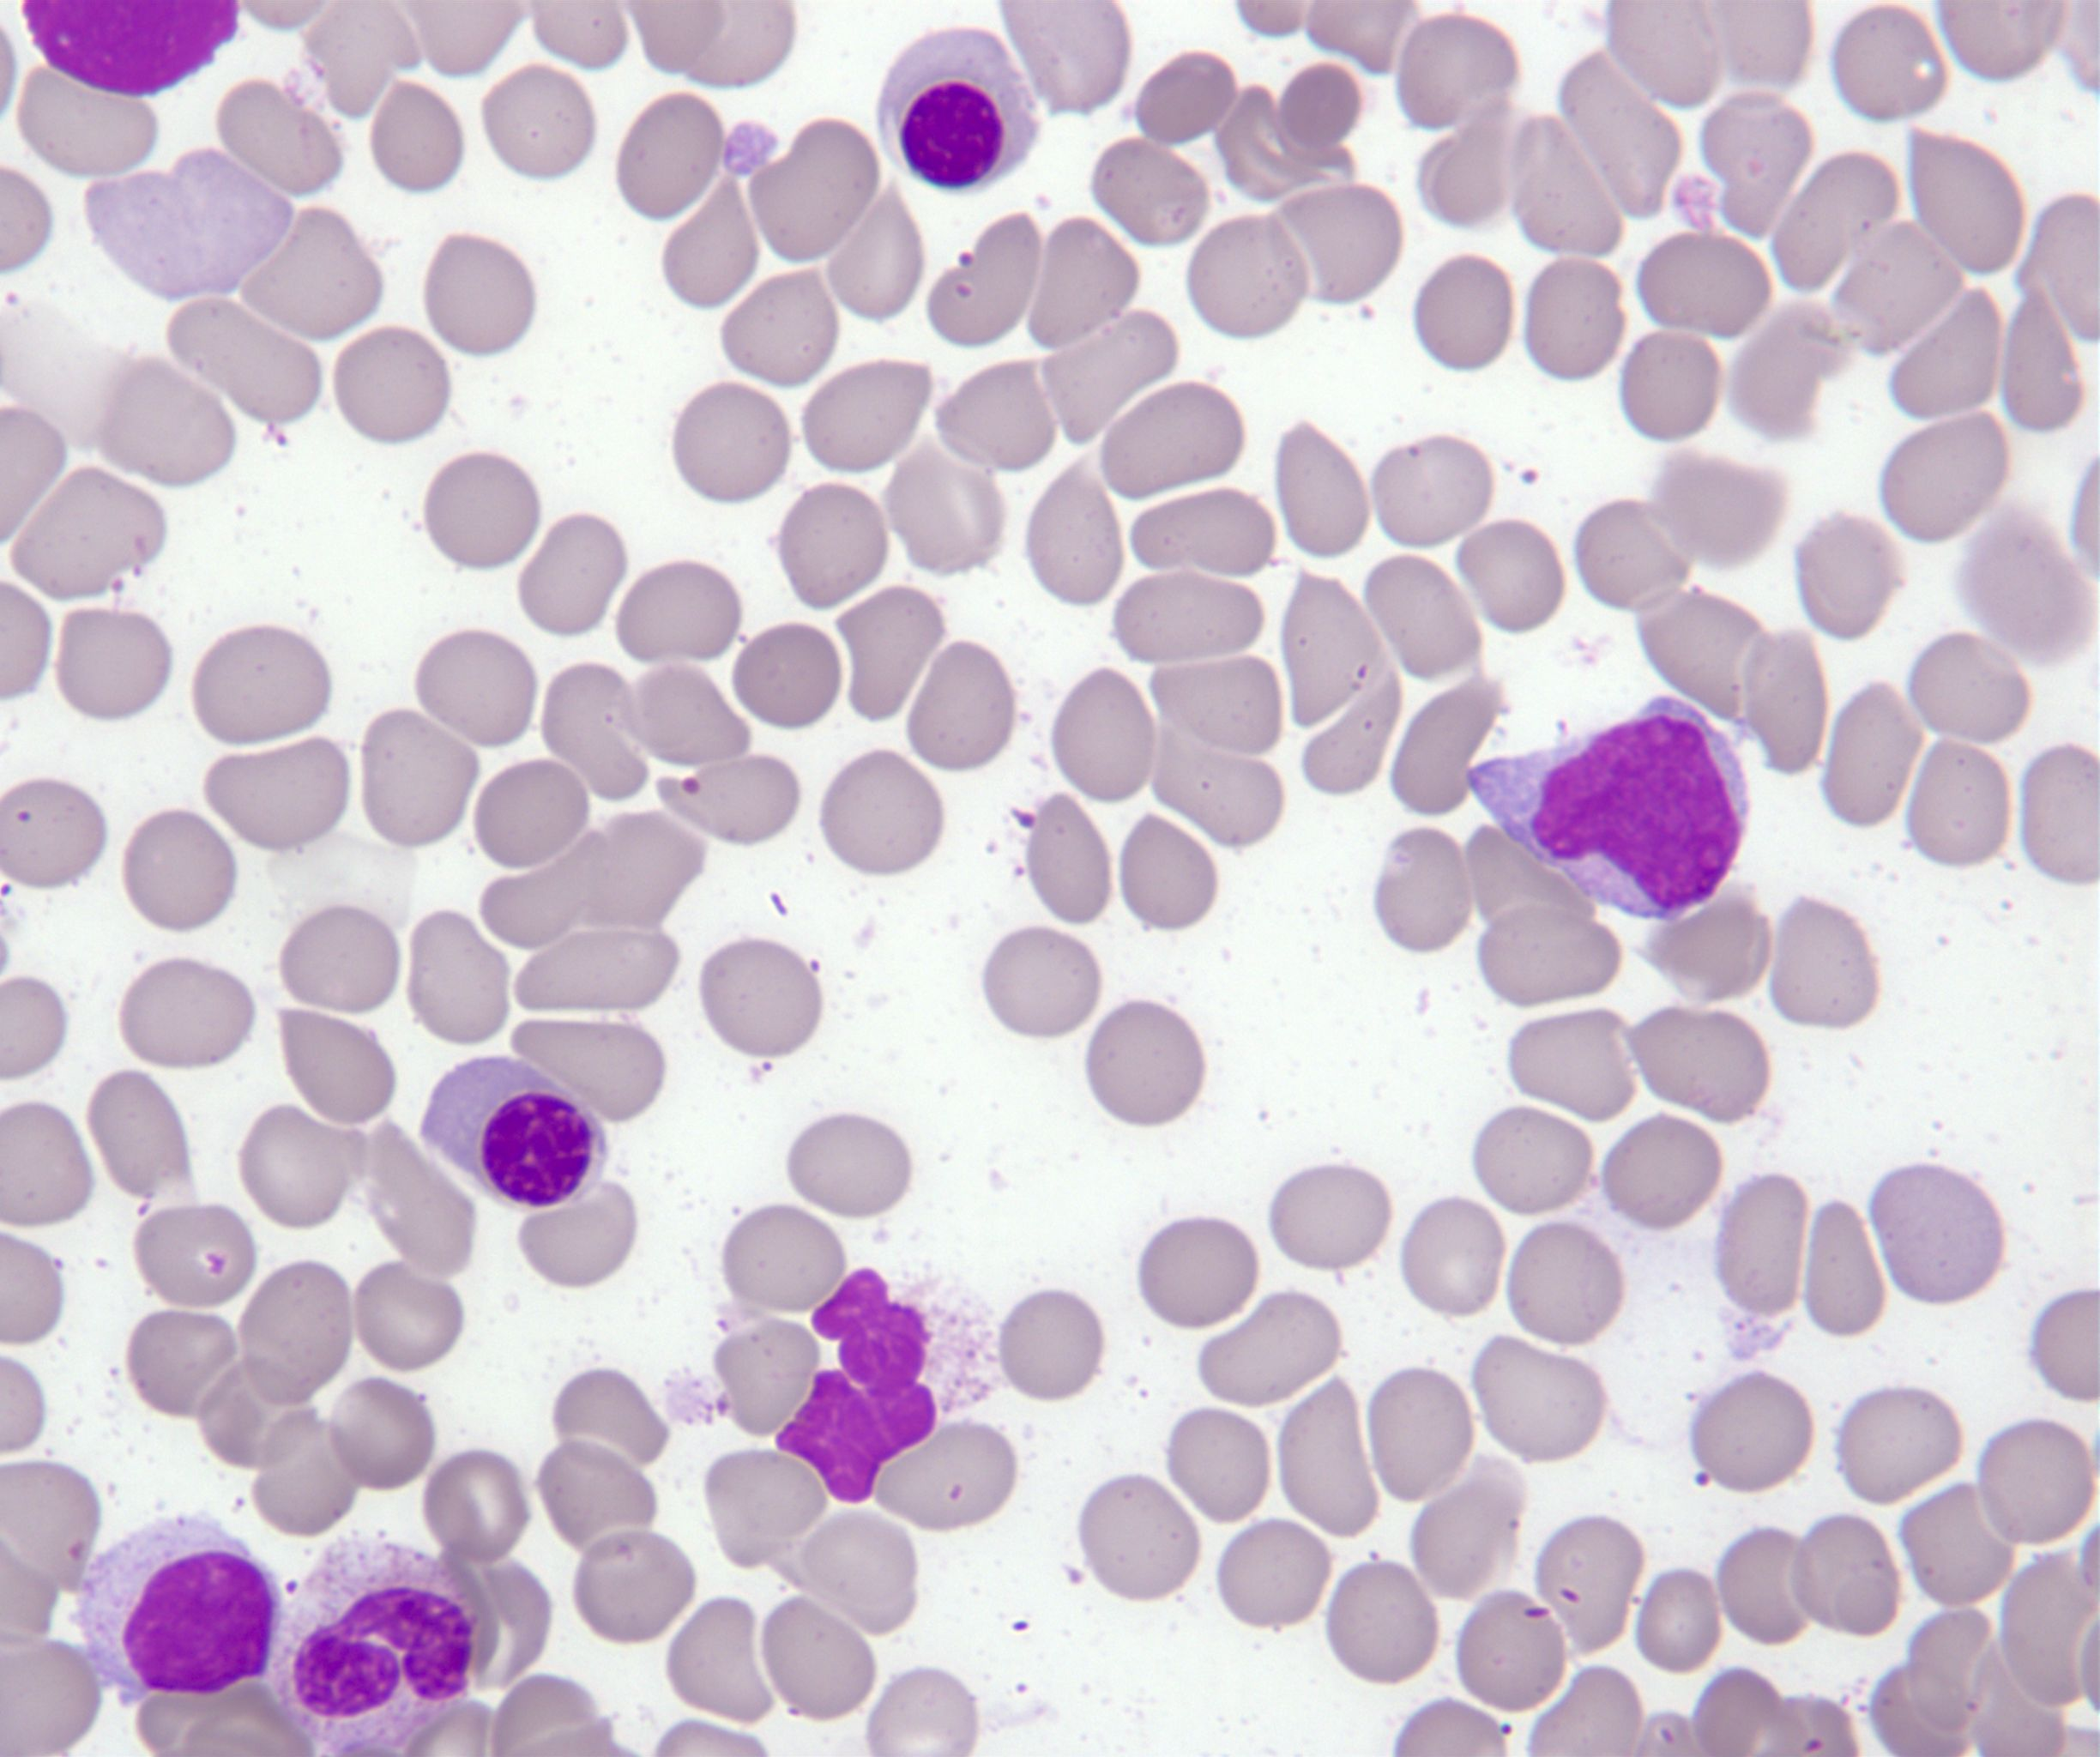23: (420, 1052, 610, 1218)
24: (872, 21, 1045, 197)
32: (66, 1509, 286, 1708)
42: (1460, 693, 1755, 923)
5: (274, 1532, 480, 1757)
x: (769, 1261, 945, 1509)
